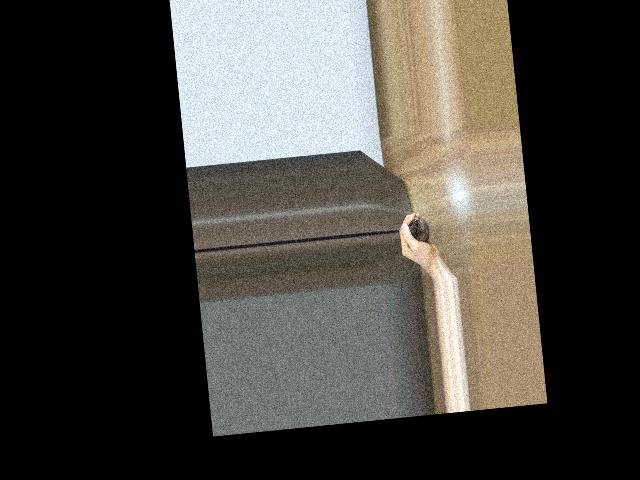beet: (388, 214, 430, 246)
